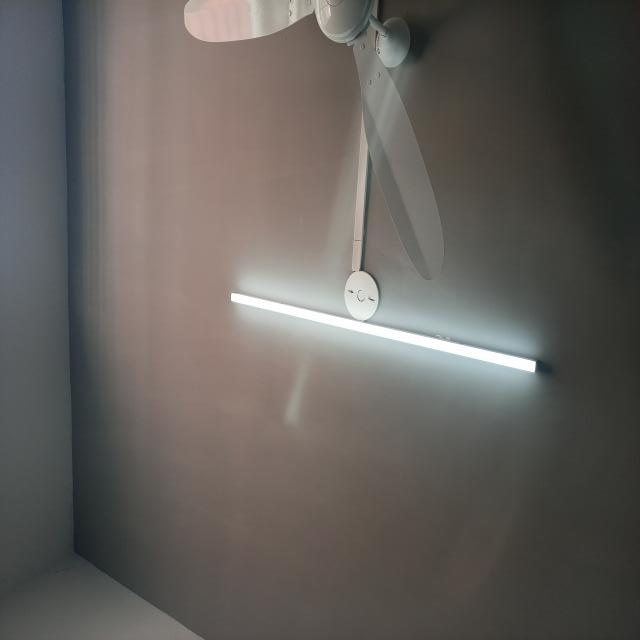fluorescent tube: (226, 287, 542, 380)
